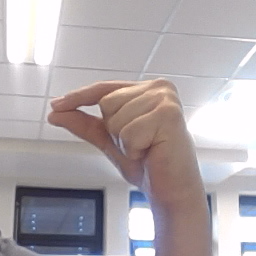S: (45, 77, 210, 201)
